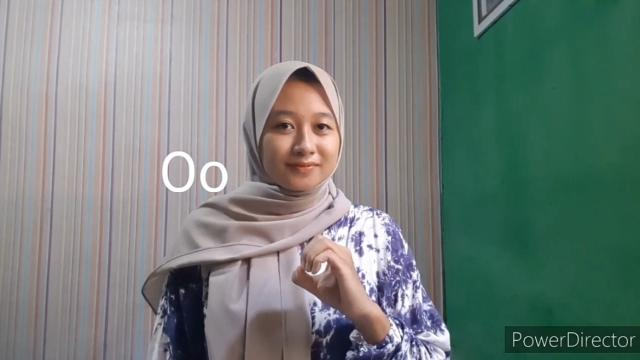O: (290, 233, 368, 314)
